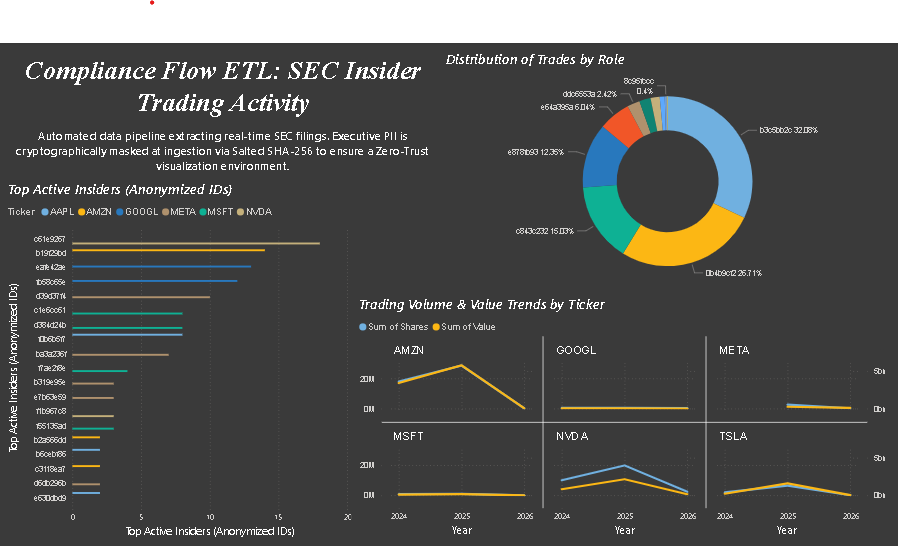

What the dashboard file says about the page in this screenshot:
{"tool":"powerbi","page":{"name":"Page 1","canvas":[1280,720],"ordinal":0},"visuals":[{"type":"clusteredBarChart","title":"Top Active Insiders (Anonymized IDs)","fields":{"Series":["masked_insider_trading.Ticker"],"Category":["masked_insider_trading.Short_ID"],"Y":["CountNonNull(masked_insider_trading.Short_ID)"]},"box":[9.9,197,497.5,513.1],"z":0},{"type":"lineChart","title":"Trading Volume & Value Trends by Ticker","fields":{"Y":["Sum(masked_insider_trading.Shares)"],"Rows":["masked_insider_trading.Ticker"],"Y2":["Sum(masked_insider_trading.Value)"],"Category":["masked_insider_trading.Start date.Variation.Date Hierarchy.Year","masked_insider_trading.Start date.Variation.Date Hierarchy.Quarter","masked_insider_trading.Start date.Variation.Date Hierarchy.Month","masked_insider_trading.Start date.Variation.Date Hierarchy.Day"]},"box":[506.9,360,763.2,349.9],"z":1000},{"type":"donutChart","title":"Distribution of Trades by Role","fields":{"Category":["masked_insider_trading.Short_Position"],"Y":["CountNonNull(masked_insider_trading.Short_Position)"]},"box":[630.7,13,639.4,347],"z":2000},{"type":"textbox","box":[9.9,12.8,620.8,184.3],"z":3000}]}

Visuals, with their boxes on the page's 1280x720 design canvas (x1, y1, x2, y2). These are canvas units, not pixel positions in the 898x546 screenshot, which may show the page scaled, cropped or inside an application window:
"Top Active Insiders (Anonymized IDs)" clusteredBarChart: <box>10,197,507,710</box>
"Trading Volume & Value Trends by Ticker" lineChart: <box>507,360,1270,710</box>
"Distribution of Trades by Role" donutChart: <box>631,13,1270,360</box>
textbox: <box>10,13,631,197</box>
